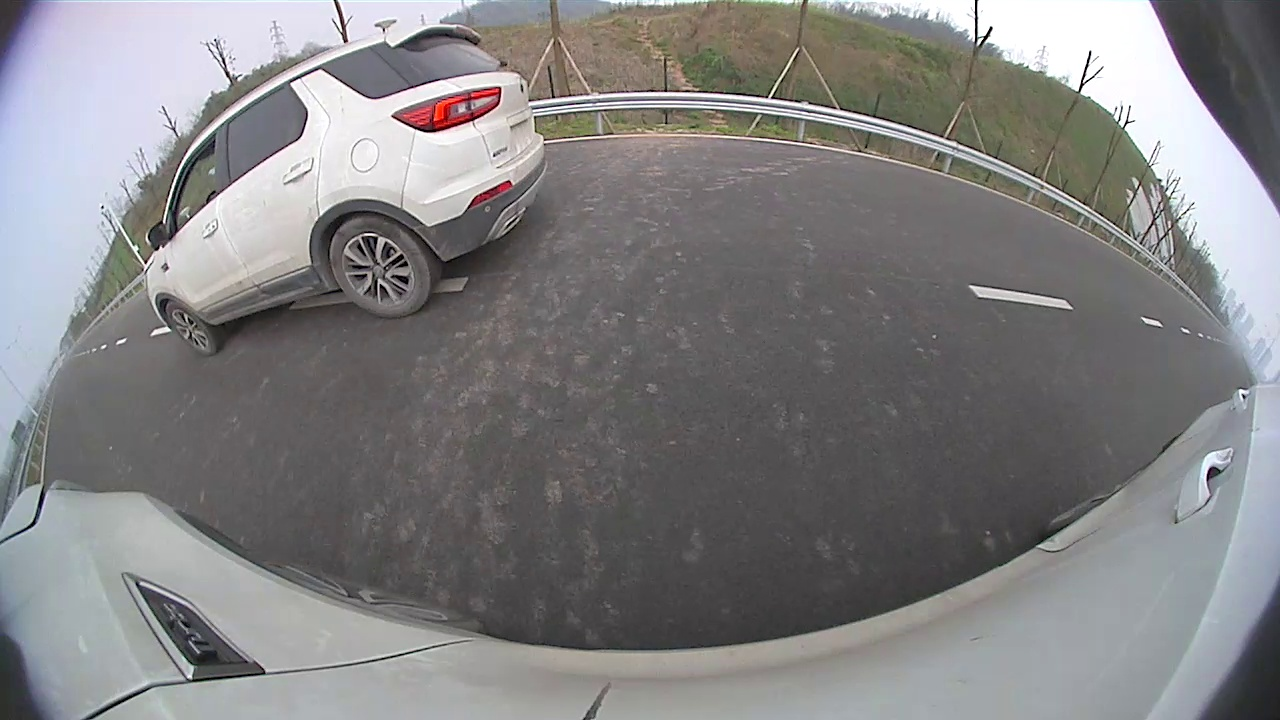car: (145, 24, 547, 356)
front: (164, 300, 216, 359)
rear: (328, 216, 433, 319)
